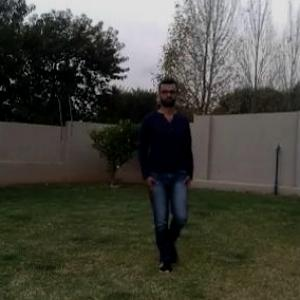follow: (146, 84, 190, 262)
